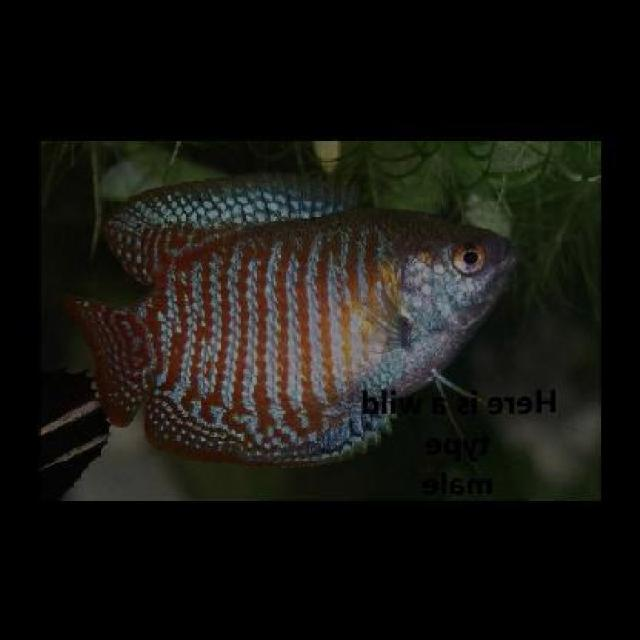Gourami: (62, 171, 523, 466)
